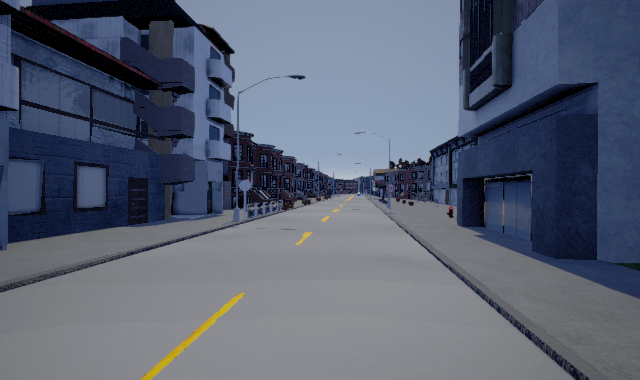traffic_sign: (386, 184, 396, 193)
